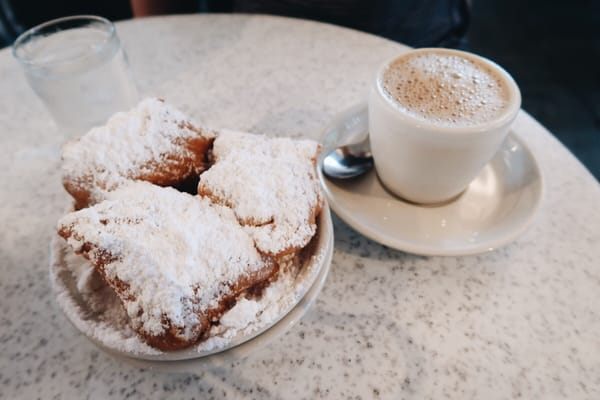salad: (320, 143, 372, 180)
